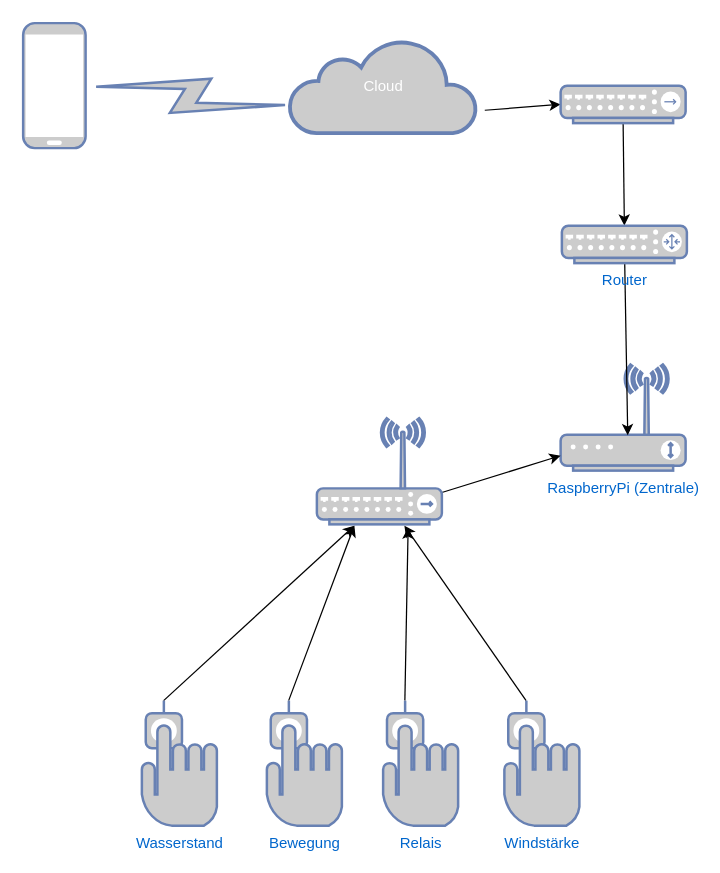
This 720x873 diagram has some shape labels left out. Here are the shapes that lost their labels. From the top down, the centre of each, then its label:
At point 53,85: "App".
At point 622,104: "Smart Meter Gateway".
At point 378,470: "Particle".
